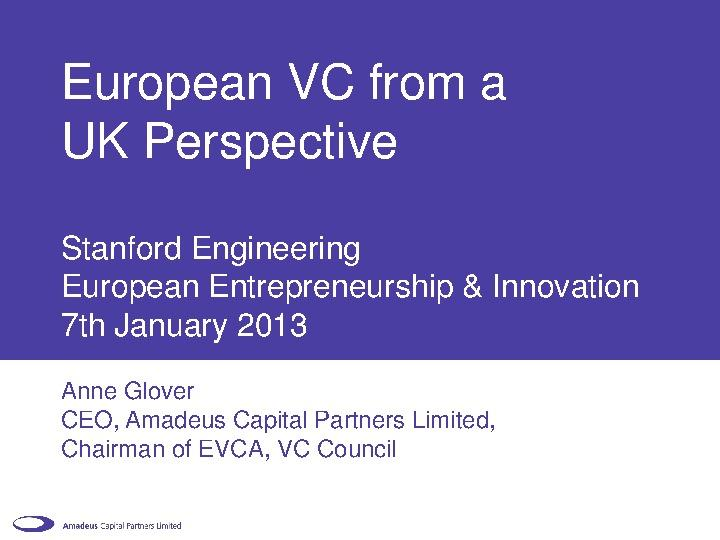paragraph: (47, 218, 666, 491)
title: (41, 37, 560, 187)
